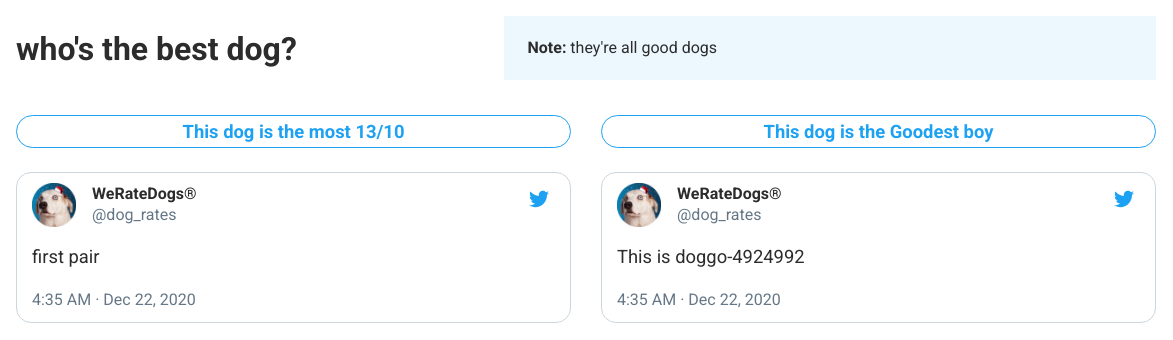
Test case: <App /> › gets new pair on successful selection
Click the button "This dog is the Goodest boy" at (878, 132), box [601, 115, 1156, 148]
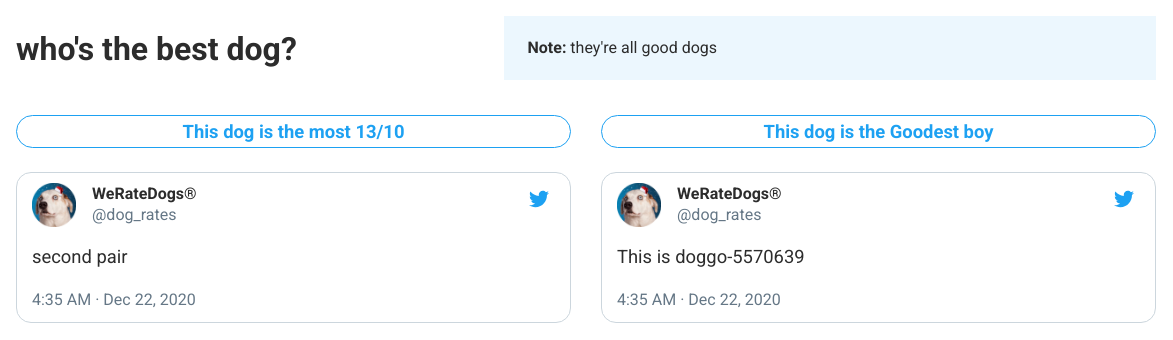
expect the heading "second pair" is shown: met, box [32, 246, 128, 267]
expect the heading "first pair" is gone: met
